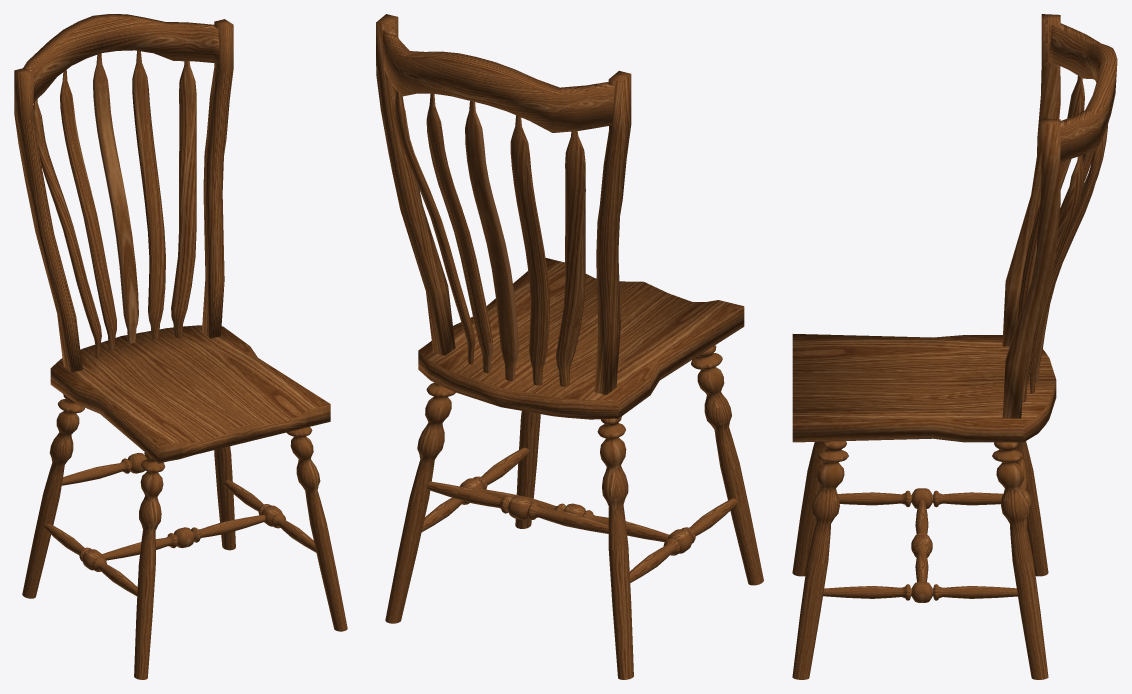
File: oakChair.glb
The picture shows the model from 3 angles, left to right: view 1: azimuth 30°, elevation 25°; view 2: azimuth 150°, elevation 25°; view 3: azimuth 270°, elevation 25°; orthographic projection. The views are drawn at different scales.
Visible parts, largest first — view 1: Plane.002, Cube.001_Cube.003, Circle.011_Circle.016, Circle.009_Circle.014, Circle.008_Circle.013, Circle.003_Circle.012, Circle.010_Circle.015; view 2: Plane.002, Cube.001_Cube.003, Circle.011_Circle.016, Circle.010_Circle.015, Circle.008_Circle.013, Circle.003_Circle.012, Circle.009_Circle.014; view 3: Plane.002, Circle.011_Circle.016, Cube.001_Cube.003, Circle.003_Circle.012, Circle.008_Circle.013, Circle.009_Circle.014.
Part boxes in pixels (x1,y1,x2,y2): Plane.002: (14, 14, 330, 463); Cube.001_Cube.003: (33, 50, 196, 358); Circle.011_Circle.016: (22, 394, 347, 679); Circle.009_Circle.014: (102, 514, 265, 560); Circle.008_Circle.013: (44, 523, 137, 596); Circle.003_Circle.012: (223, 480, 316, 552); Circle.010_Circle.015: (61, 453, 191, 485); Plane.002: (376, 14, 744, 419); Cube.001_Cube.003: (394, 90, 585, 386); Circle.011_Circle.016: (385, 345, 763, 679); Circle.010_Circle.015: (427, 481, 608, 533); Circle.008_Circle.013: (629, 498, 738, 582); Circle.003_Circle.012: (421, 447, 529, 531); Circle.009_Circle.014: (479, 489, 669, 542); Plane.002: (792, 14, 1117, 442); Circle.011_Circle.016: (792, 441, 1048, 679); Cube.001_Cube.003: (1017, 76, 1107, 402); Circle.003_Circle.012: (823, 581, 1017, 602); Circle.008_Circle.013: (838, 488, 1002, 508); Circle.009_Circle.014: (911, 500, 932, 581).
Bounding box in the file's own units: 0.491 × 1.18 × 0.6121.
2 materials, 2 textured.
